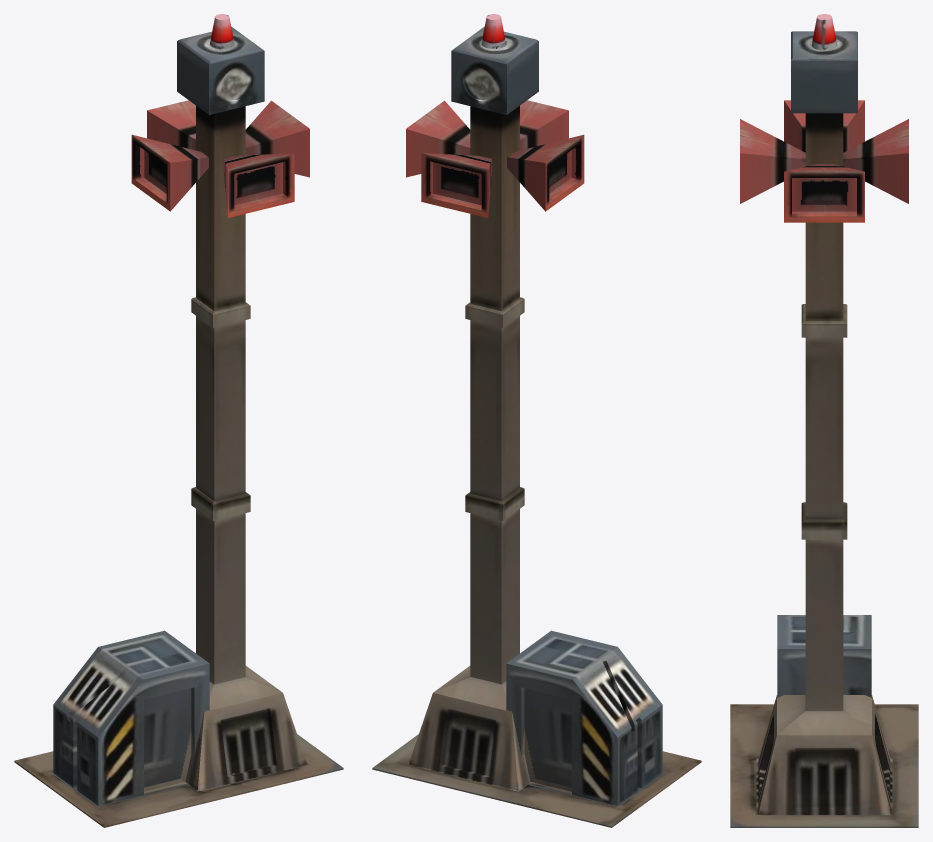
Rendered from perimeteralarm_cad.glb.
3 renders of one model, left to right at view 1: azimuth 30°, elevation 25°; view 2: azimuth 150°, elevation 25°; view 3: azimuth 270°, elevation 25°, orthographic. The views are drawn at different scales.
Parts seen in each view (by area): view 1: perimeteralarm; view 2: perimeteralarm; view 3: perimeteralarm.
Part boxes in pixels (x1,y1,x2,y2): perimeteralarm: (14, 14, 343, 827); perimeteralarm: (372, 14, 701, 827); perimeteralarm: (730, 14, 918, 827).
Bounding box in the file's own units: 5.35 × 15.75 × 3.48.
Materials: 1 (1 with a texture image).
